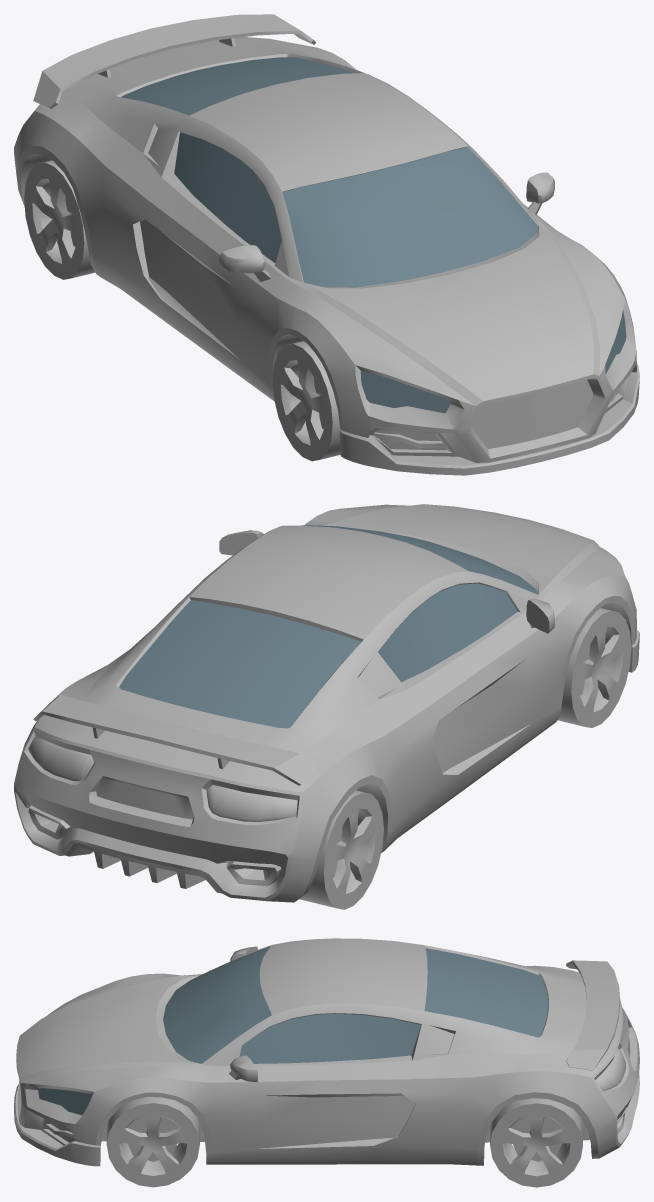
The model's file is Car_1.FBX.
The picture shows the model from 3 angles, top to bottom: view 1: azimuth 30°, elevation 25°; view 2: azimuth 150°, elevation 25°; view 3: azimuth 270°, elevation 25°; orthographic projection. The views are drawn at different scales.
Parts seen in each view (by area): view 1: Body_1, Glass_1, Matte_1, Wheel_R, Wheel_Back_R, Glass_light; view 2: Body_1, Glass_1, Matte_1, Wheel_R, Wheel_Back_R, Taillights_1; view 3: Body_1, Glass_1, Matte_1, Wheel_L, Wheel_Back_L, Glass_light, Taillights_1, break_L.
Part boxes in pixels (box(x1,y1,x2,y2)): Body_1: box(14, 37, 636, 462); Glass_1: box(121, 57, 537, 287); Matte_1: box(21, 14, 639, 475); Wheel_R: box(272, 341, 340, 461); Wheel_Back_R: box(24, 160, 94, 279); Glass_light: box(360, 309, 626, 413); Body_1: box(14, 504, 636, 902); Glass_1: box(119, 525, 537, 728); Matte_1: box(28, 530, 639, 893); Wheel_R: box(558, 608, 631, 727); Wheel_Back_R: box(299, 790, 383, 909); Taillights_1: box(28, 736, 297, 821); Body_1: box(16, 938, 639, 1165); Glass_1: box(163, 946, 547, 1063); Matte_1: box(14, 946, 625, 1166); Wheel_L: box(106, 1097, 199, 1187); Wheel_Back_L: box(490, 1098, 582, 1187); Glass_light: box(38, 1088, 91, 1114); Taillights_1: box(595, 1049, 626, 1090); break_L: box(128, 1117, 176, 1161).
Size of the model in its own units: 2.08 by 1.3 by 4.43.
